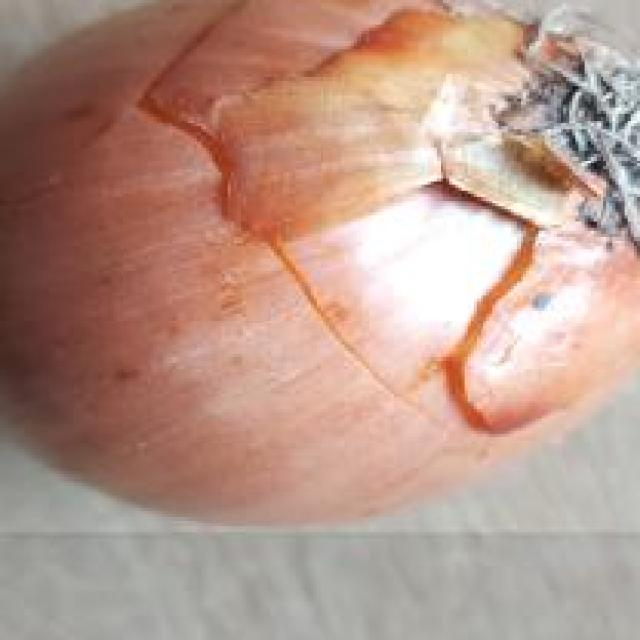onion: (0, 0, 640, 535)
